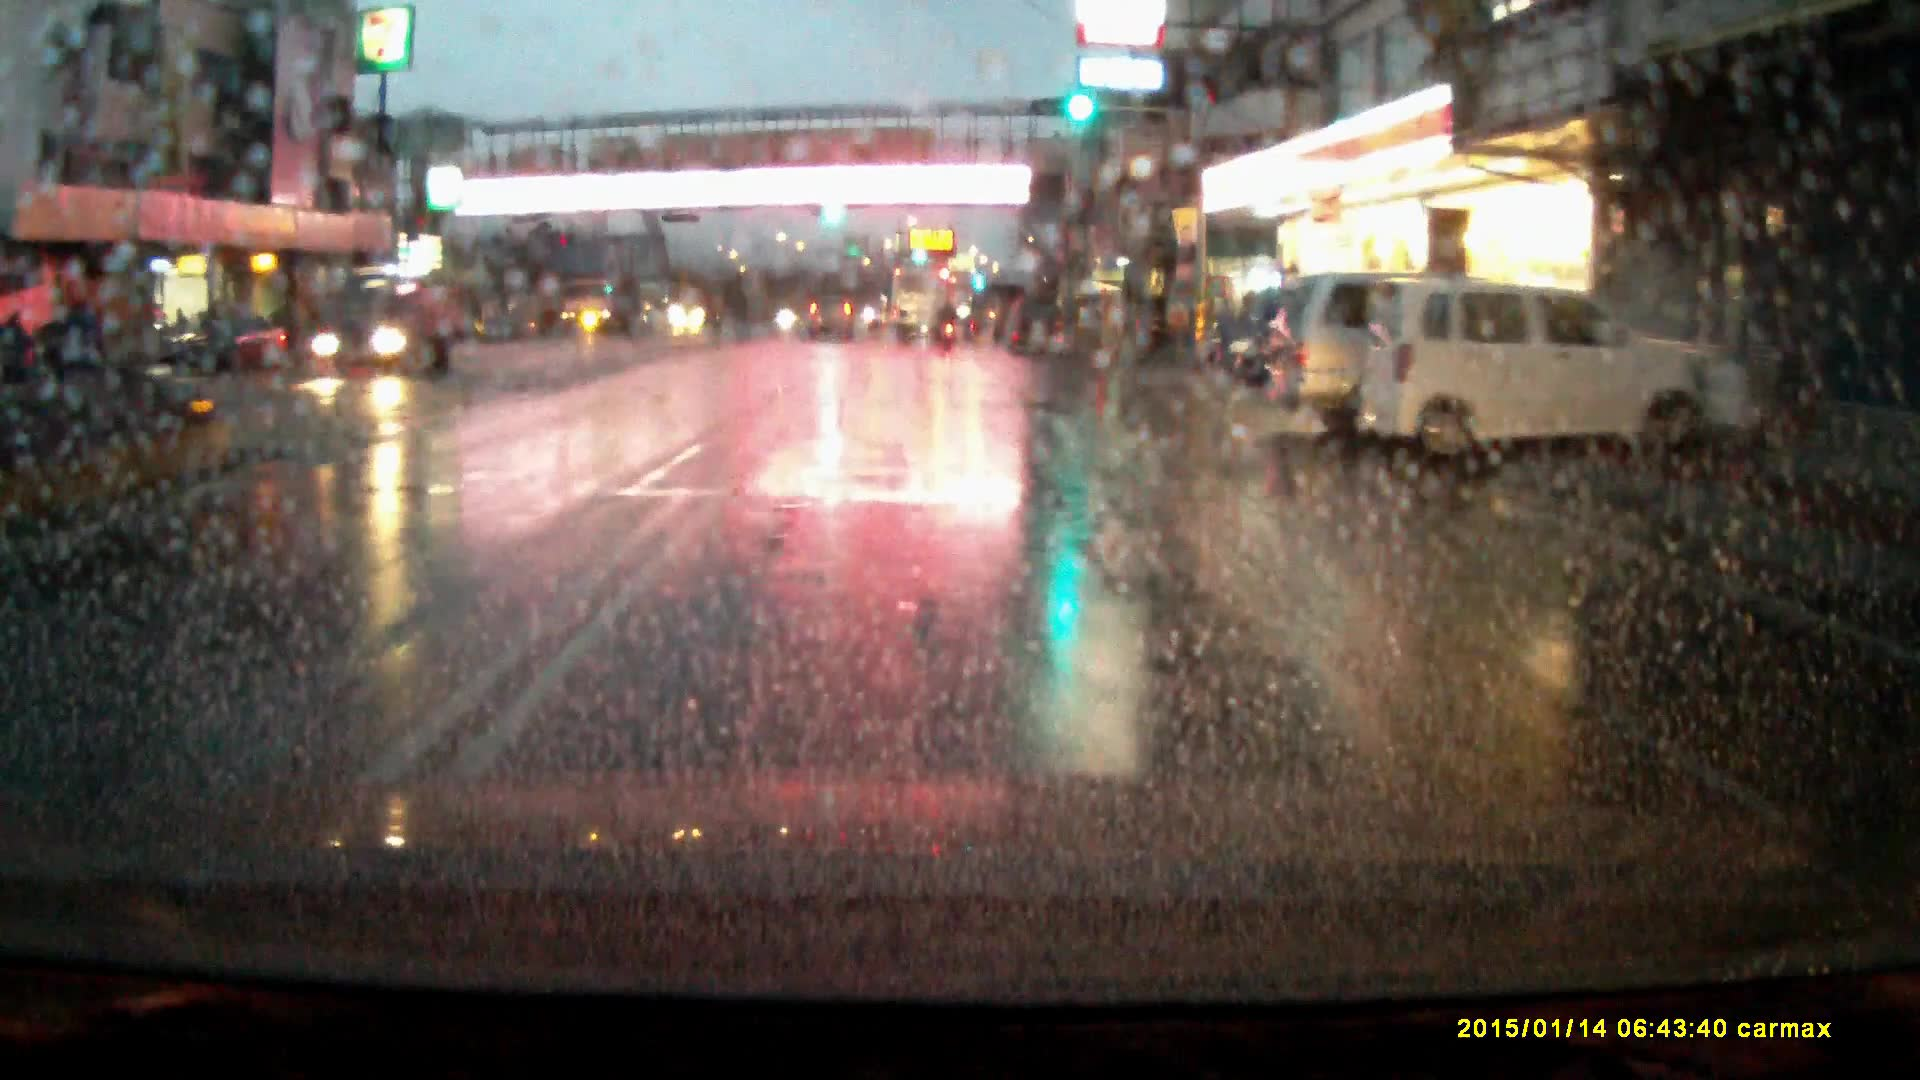rider: (940, 299, 960, 346)
vehicle: (1354, 285, 1720, 472), (1261, 268, 1473, 433), (315, 279, 453, 390), (142, 310, 287, 379), (892, 270, 954, 345), (1002, 291, 1070, 359), (557, 283, 634, 342), (1124, 298, 1194, 358), (668, 291, 729, 342), (807, 301, 859, 352)
